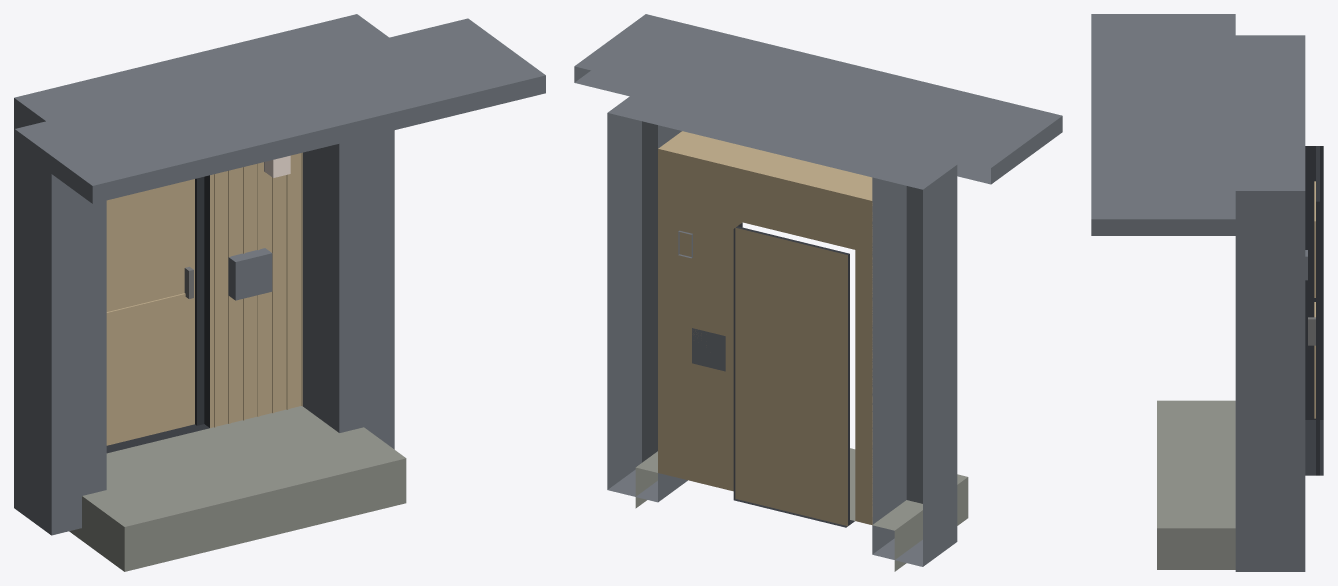
The model's file is entrance_close.fbx.
3 views of the same model, side by side, from view 1: azimuth 30°, elevation 25°; view 2: azimuth 150°, elevation 25°; view 3: azimuth 270°, elevation 25° (orthographic). The views are drawn at different scales.
Visible parts, largest first — view 1: a2000s2/600/entrance_close; view 2: a2000s2/600/entrance_close; view 3: a2000s2/600/entrance_close.
Part boxes in pixels (<box>): a2000s2/600/entrance_close: <box>14,14,545,571</box>; a2000s2/600/entrance_close: <box>574,14,1062,571</box>; a2000s2/600/entrance_close: <box>1091,14,1323,571</box>.
Bounding box in the file's own units: 3.7 × 3.34 × 1.77.
